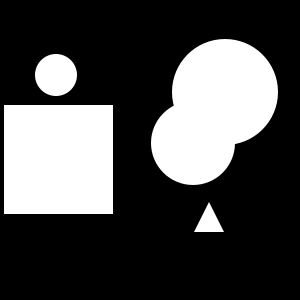circle: (4, 105, 113, 214)
rectangle: (172, 39, 278, 145), (151, 101, 235, 185), (35, 54, 77, 96)
triangle: (194, 202, 224, 232)
